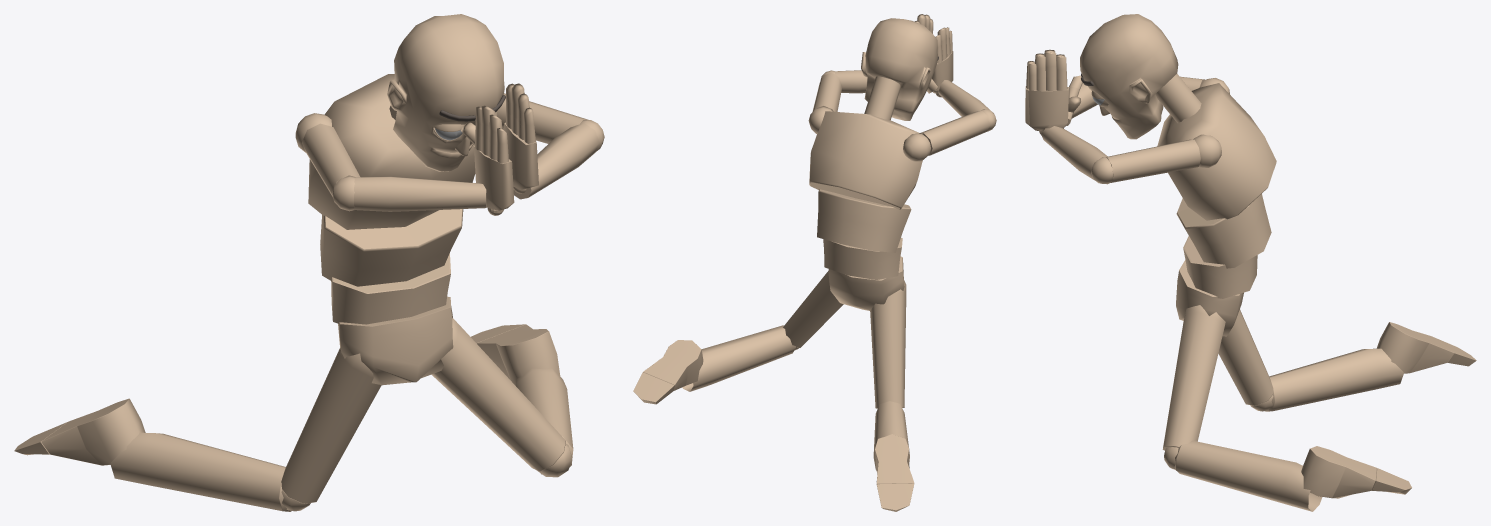
The model's file is Praying Max.fbx.
3 views of the same model, side by side, from view 1: azimuth 30°, elevation 25°; view 2: azimuth 150°, elevation 25°; view 3: azimuth 270°, elevation 25° (orthographic). The views are drawn at different scales.
Visible parts, largest first — view 1: polySurface191, UpperBack, Mid_Back, L_Thigh, polySurface68, R_Thigh, Hip, polySurface130, Lower_Back, polySurface201, polySurface181, polySurface200 (+9 smaller); view 2: UpperBack, Mid_Back, polySurface191, R_Thigh, polySurface75, Lower_Back, Hip, L_Thigh, polySurface130, polySurface200, polySurface201, polySurface122 (+11 smaller); view 3: UpperBack, polySurface191, L_Thigh, polySurface68, polySurface75, Mid_Back, polySurface130, R_Thigh, polySurface200, polySurface162, polySurface201, Lower_Back (+11 smaller).
Boxes of the visible parts, x1=… form: polySurface191: x1=387, y1=14, x2=504, y2=171; UpperBack: x1=308, y1=74, x2=475, y2=229; Mid_Back: x1=320, y1=209, x2=463, y2=286; L_Thigh: x1=431, y1=318, x2=565, y2=471; polySurface68: x1=110, y1=432, x2=291, y2=511; R_Thigh: x1=281, y1=348, x2=381, y2=503; Hip: x1=338, y1=296, x2=453, y2=385; polySurface130: x1=388, y1=14, x2=504, y2=171; Lower_Back: x1=331, y1=253, x2=450, y2=324; polySurface201: x1=41, y1=398, x2=145, y2=465; polySurface181: x1=354, y1=176, x2=486, y2=211; polySurface200: x1=476, y1=324, x2=560, y2=385; UpperBack: x1=809, y1=111, x2=922, y2=209; Mid_Back: x1=817, y1=189, x2=911, y2=252; polySurface191: x1=861, y1=19, x2=937, y2=120; R_Thigh: x1=870, y1=280, x2=906, y2=408; polySurface75: x1=682, y1=325, x2=795, y2=391; Lower_Back: x1=823, y1=237, x2=902, y2=279; Hip: x1=828, y1=256, x2=904, y2=310; L_Thigh: x1=783, y1=271, x2=843, y2=347; polySurface130: x1=861, y1=18, x2=937, y2=120; polySurface200: x1=643, y1=340, x2=703, y2=390; polySurface201: x1=874, y1=434, x2=914, y2=484; polySurface122: x1=919, y1=111, x2=990, y2=148; UpperBack: x1=1157, y1=83, x2=1276, y2=220; polySurface191: x1=1080, y1=14, x2=1177, y2=139; L_Thigh: x1=1162, y1=305, x2=1225, y2=450; polySurface68: x1=1265, y1=348, x2=1403, y2=411; polySurface75: x1=1175, y1=440, x2=1321, y2=511; Mid_Back: x1=1176, y1=194, x2=1271, y2=268; polySurface130: x1=1080, y1=14, x2=1178, y2=137; R_Thigh: x1=1218, y1=309, x2=1273, y2=405; polySurface200: x1=1301, y1=446, x2=1376, y2=498; polySurface162: x1=1106, y1=139, x2=1200, y2=182; polySurface201: x1=1376, y1=322, x2=1453, y2=373; Lower_Back: x1=1183, y1=236, x2=1257, y2=298.
Bounding box in the file's own units: 116 × 131 × 127.
